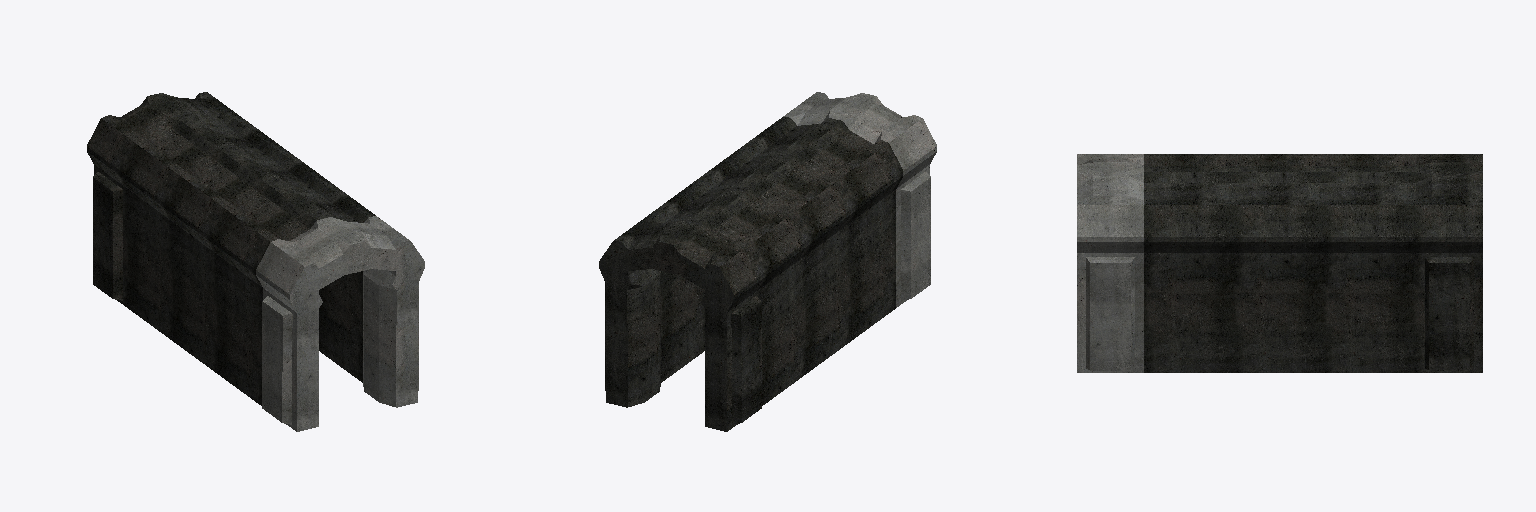
3 views of the same model, side by side, from view 1: azimuth 30°, elevation 25°; view 2: azimuth 150°, elevation 25°; view 3: azimuth 270°, elevation 25° (orthographic).
Visible parts, largest first — view 1: Cube_Cube.001; view 2: Cube_Cube.001; view 3: Cube_Cube.001.
Boxes of the visible parts, <box> form: Cube_Cube.001: <box>87,92,424,431</box>; Cube_Cube.001: <box>599,92,936,431</box>; Cube_Cube.001: <box>1077,154,1482,372</box>.
Size of the model in its own units: 9.92 by 12.07 by 25.56.
Materials: 2 (2 with a texture image).